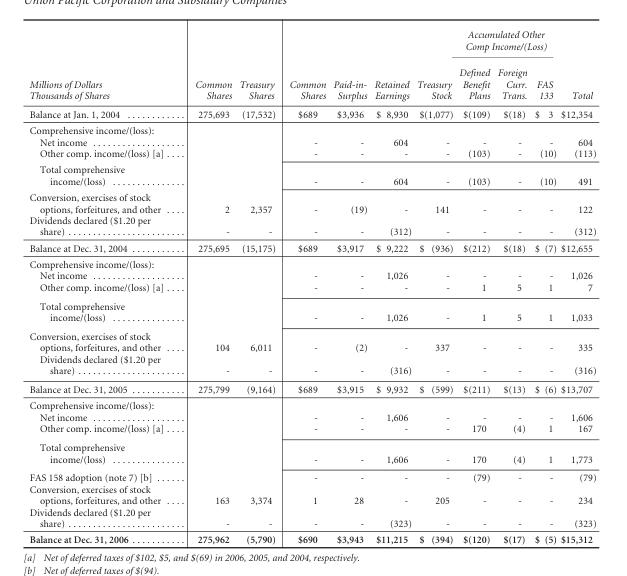table: (28, 29, 595, 544)
table column: (28, 29, 178, 544), (178, 29, 234, 544), (281, 29, 329, 544), (234, 29, 281, 544), (370, 29, 413, 544), (413, 29, 455, 544), (329, 29, 370, 544), (455, 29, 493, 544), (493, 29, 530, 544), (558, 29, 595, 544), (530, 29, 558, 544)
table column header: (28, 29, 595, 104)
table projected row header: (28, 122, 595, 136), (28, 397, 595, 411), (28, 256, 595, 269)
table row: (28, 59, 595, 104), (28, 437, 595, 468), (28, 29, 595, 59), (28, 296, 595, 326), (28, 161, 595, 189), (28, 326, 595, 353), (28, 353, 595, 379), (28, 189, 595, 214), (28, 214, 595, 239), (28, 506, 595, 531), (28, 483, 595, 506), (28, 104, 595, 122), (28, 379, 595, 397), (28, 239, 595, 256), (28, 281, 595, 296), (28, 422, 595, 437), (28, 468, 595, 483), (28, 122, 595, 136), (28, 147, 595, 161), (28, 397, 595, 411), (28, 256, 595, 269), (28, 531, 595, 544), (28, 269, 595, 281), (28, 136, 595, 147), (28, 411, 595, 422)
table spanning cell: (28, 29, 178, 104), (178, 29, 234, 104), (281, 29, 329, 104), (234, 29, 281, 104), (370, 29, 413, 104), (413, 29, 455, 104), (455, 29, 558, 59), (329, 29, 370, 104), (558, 29, 595, 104)
